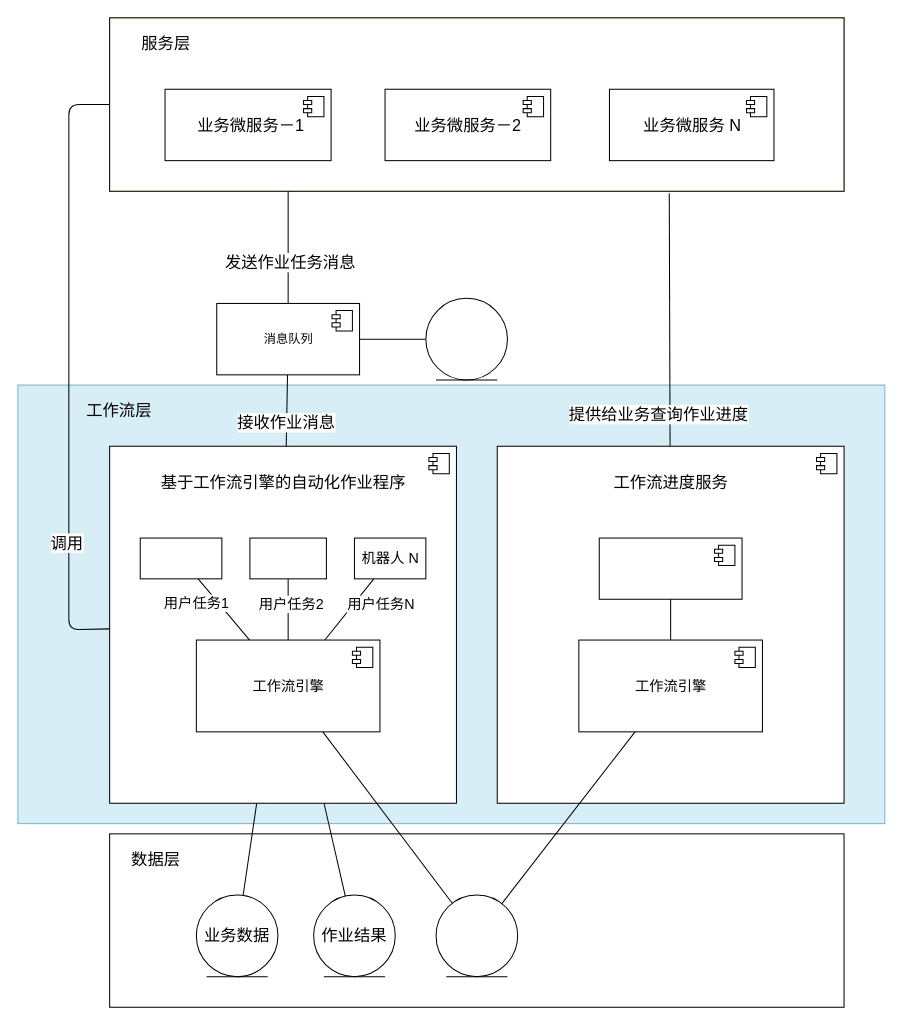
Image size: 903x1025. Some labels were removed from this diagram. Each missing label, with the centre of its shape:
"工作流数据" belongs at (476,935).
"机器人1" belongs at (180,558).
"机器人2" belongs at (287,558).
"查询接口" belongs at (670,568).
"消息数据" belongs at (466,338).
